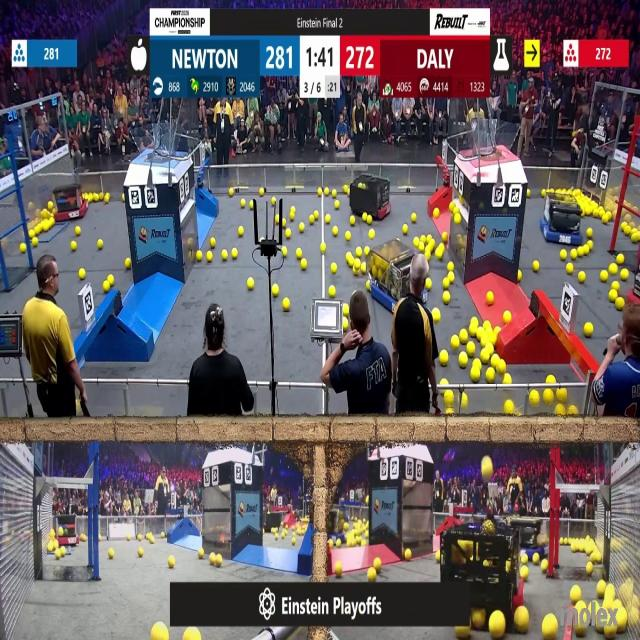ball_airborne: (490, 614, 505, 638), (483, 459, 494, 482), (471, 612, 484, 630), (456, 626, 469, 640)
ball_ground: (516, 609, 529, 635), (542, 617, 556, 640), (152, 624, 167, 640), (570, 587, 580, 604), (594, 580, 604, 597), (469, 366, 479, 380), (529, 391, 539, 405), (575, 624, 585, 638), (585, 322, 594, 337), (557, 388, 567, 401), (543, 389, 553, 402), (503, 402, 512, 416), (459, 352, 467, 367), (336, 562, 344, 576), (521, 566, 529, 580), (184, 630, 195, 640), (445, 392, 454, 404), (482, 350, 491, 362), (442, 351, 449, 366), (432, 309, 440, 322), (487, 367, 495, 380), (452, 337, 460, 350), (460, 394, 468, 407), (467, 325, 476, 336), (460, 328, 467, 342), (272, 284, 280, 296), (502, 312, 510, 324), (367, 568, 375, 580), (621, 270, 629, 282), (617, 300, 625, 312), (466, 343, 474, 355), (487, 291, 494, 304), (347, 253, 354, 266), (540, 560, 547, 573), (498, 359, 505, 372), (545, 376, 554, 386), (568, 408, 577, 418), (556, 407, 565, 417), (444, 291, 452, 302), (608, 265, 616, 276), (521, 554, 529, 565), (247, 278, 254, 290), (283, 299, 290, 311), (609, 289, 616, 301), (491, 354, 498, 366), (374, 559, 382, 569), (618, 254, 626, 264), (470, 359, 480, 367), (588, 562, 594, 575), (570, 249, 577, 260), (444, 279, 451, 290), (566, 265, 573, 276), (403, 551, 410, 562), (299, 261, 306, 272), (215, 555, 222, 566), (123, 260, 130, 271), (435, 249, 442, 260), (578, 272, 584, 284), (169, 556, 175, 568), (343, 305, 349, 317), (210, 554, 216, 566), (328, 286, 335, 296), (78, 270, 85, 280), (503, 374, 510, 384), (601, 272, 608, 282), (587, 229, 594, 239), (103, 282, 110, 292), (284, 230, 291, 240), (42, 220, 49, 230), (413, 238, 420, 248), (426, 279, 432, 290), (343, 318, 349, 329), (536, 263, 542, 274), (195, 250, 201, 261), (320, 243, 326, 254), (632, 233, 638, 244), (610, 281, 618, 289), (309, 215, 316, 224), (426, 241, 433, 250), (330, 264, 336, 274), (295, 248, 301, 258), (560, 250, 566, 260), (98, 240, 104, 250), (75, 225, 81, 235), (432, 208, 438, 218), (233, 248, 238, 260), (207, 252, 213, 262), (108, 550, 114, 560), (517, 272, 523, 282), (19, 243, 25, 253), (57, 550, 63, 560), (238, 226, 244, 236), (221, 250, 227, 260), (454, 214, 460, 224), (331, 225, 337, 235), (360, 264, 366, 274), (108, 275, 114, 285), (314, 210, 320, 220), (532, 554, 538, 564), (354, 257, 360, 267), (577, 247, 583, 257), (450, 202, 456, 212), (420, 241, 426, 251), (602, 213, 608, 223), (482, 338, 488, 348), (484, 321, 491, 329), (469, 318, 476, 326), (447, 409, 454, 417), (363, 282, 370, 290), (32, 225, 39, 233), (29, 231, 36, 239), (282, 248, 288, 257), (210, 239, 216, 248), (199, 550, 205, 559), (363, 247, 369, 256), (104, 192, 110, 201), (571, 542, 577, 551), (402, 224, 407, 234), (71, 242, 76, 252), (444, 233, 449, 243), (139, 548, 144, 558), (449, 273, 454, 283), (442, 379, 449, 386), (324, 215, 330, 223), (356, 248, 362, 256), (350, 216, 356, 224), (540, 188, 546, 196), (425, 252, 431, 260), (46, 542, 52, 550), (363, 496, 369, 504), (47, 202, 53, 210), (368, 231, 373, 240), (346, 233, 351, 242), (298, 222, 303, 231), (435, 553, 440, 562), (362, 213, 367, 222), (585, 245, 590, 254), (320, 187, 325, 196), (227, 188, 233, 195), (361, 539, 367, 546), (413, 214, 418, 222), (449, 264, 454, 272), (33, 239, 38, 247), (241, 200, 246, 208), (275, 215, 280, 223), (259, 188, 264, 196), (331, 188, 336, 196), (249, 202, 254, 210), (336, 202, 341, 210), (527, 188, 532, 196), (426, 235, 431, 243), (290, 206, 295, 214), (272, 199, 277, 207), (337, 539, 342, 547), (148, 537, 152, 546), (289, 213, 294, 220), (81, 534, 86, 541), (363, 530, 368, 537), (282, 218, 286, 226), (353, 269, 357, 277), (138, 534, 143, 540), (128, 534, 133, 540), (292, 537, 296, 544), (99, 534, 103, 541), (162, 532, 166, 538), (121, 193, 124, 200)
goal: (465, 122, 522, 159), (132, 129, 188, 161)
robot_blue: (366, 240, 414, 312), (541, 189, 583, 245), (518, 515, 550, 558)
robot_red: (435, 516, 522, 621), (349, 173, 391, 222), (54, 166, 91, 220), (54, 513, 80, 547)
